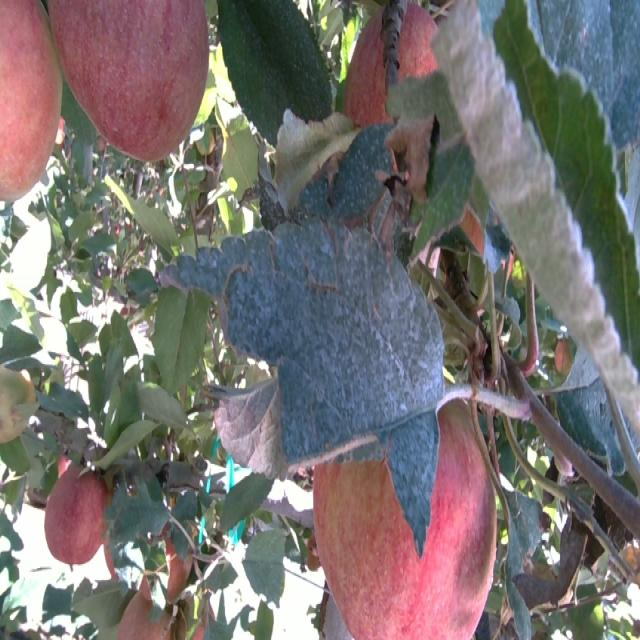100-_ripeness: (314, 384, 498, 640), (44, 0, 212, 155), (348, 3, 442, 155), (0, 0, 61, 221), (44, 447, 110, 565), (117, 586, 173, 640)
